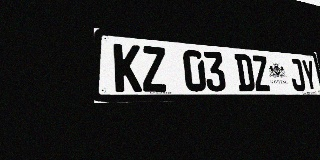0: (182, 49, 207, 92)
3: (203, 51, 226, 91)
D: (234, 54, 255, 91)
J: (288, 58, 306, 91)
K: (113, 43, 142, 92)
Y: (301, 59, 318, 91)
Z: (141, 46, 168, 92), (251, 55, 271, 91)
